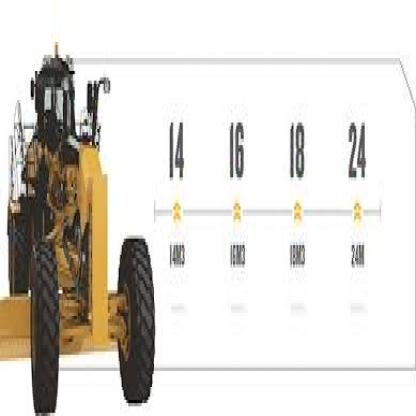bull_dozer/loader/grader: (2, 45, 156, 413)
